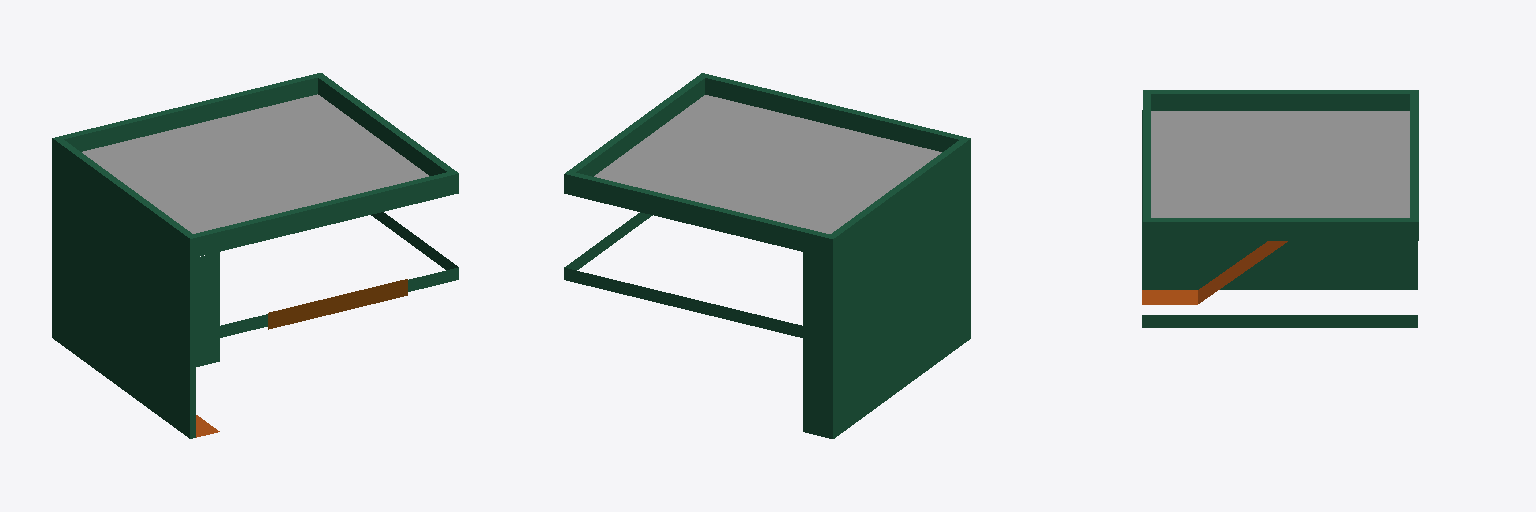
The picture shows the model from 3 angles: view 1: azimuth 30°, elevation 25°; view 2: azimuth 150°, elevation 25°; view 3: azimuth 270°, elevation 25°; orthographic projection.
Parts seen in each view (by area): view 1: SketchUp_ID3; view 2: SketchUp_ID3; view 3: SketchUp_ID3.
Boxes of the visible parts, x1,y1,x2,y2 form: SketchUp_ID3: [52, 73, 458, 438]; SketchUp_ID3: [564, 73, 970, 438]; SketchUp_ID3: [1142, 90, 1418, 327].
Size of the model in its own units: 9 by 6.4 by 8.03.